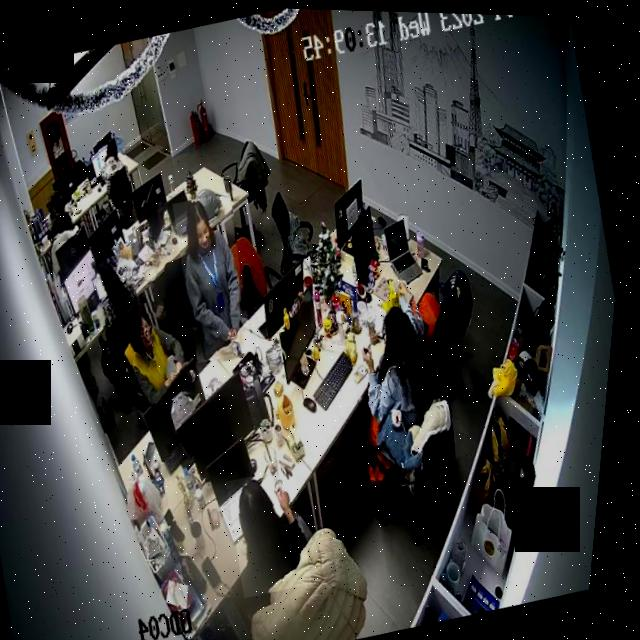person: (335, 286, 476, 491), (165, 188, 271, 363), (226, 463, 331, 597), (115, 292, 208, 409), (90, 251, 151, 328), (41, 185, 84, 242), (96, 133, 135, 182)
